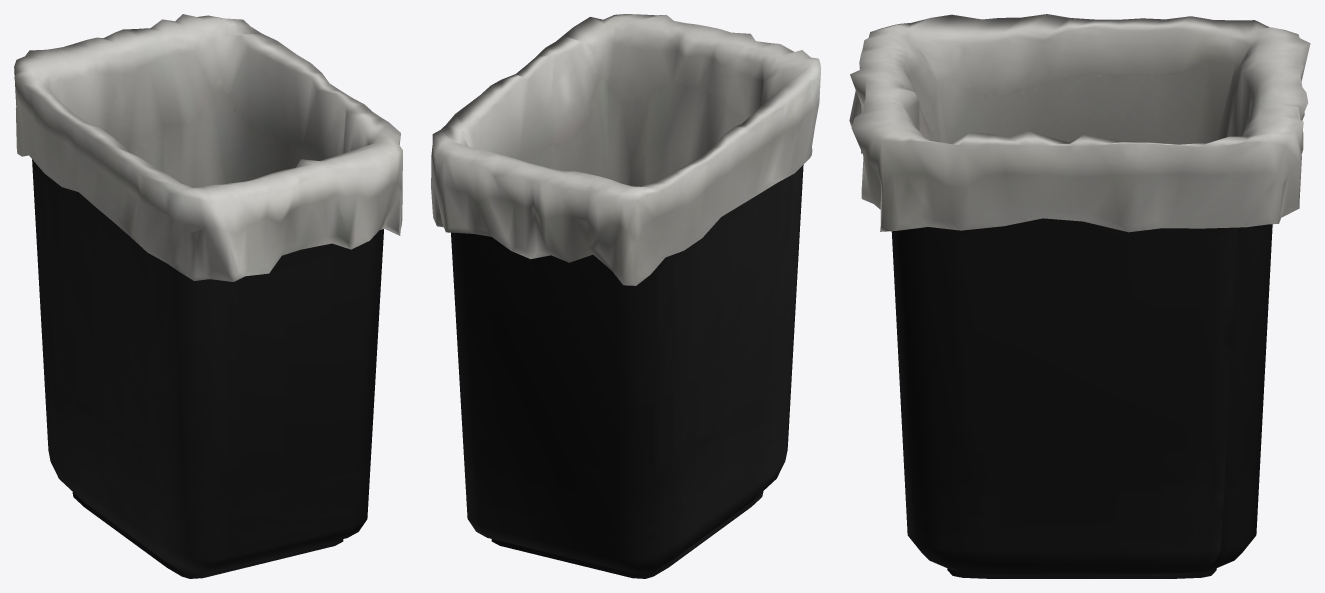
File: trashcan.glb
3 renders of one model, left to right at view 1: azimuth 30°, elevation 25°; view 2: azimuth 150°, elevation 25°; view 3: azimuth 270°, elevation 25°, orthographic. The views are drawn at different scales.
Parts seen in each view (by area): view 1: prim0; view 2: prim0; view 3: prim0.
Part boxes in pixels (x1,y1,x2,y2): prim0: [14, 14, 402, 578]; prim0: [431, 14, 820, 578]; prim0: [849, 14, 1310, 578].
Size of the model in its own units: 0.349 by 0.572 by 0.521.
2 materials, 2 textured.
